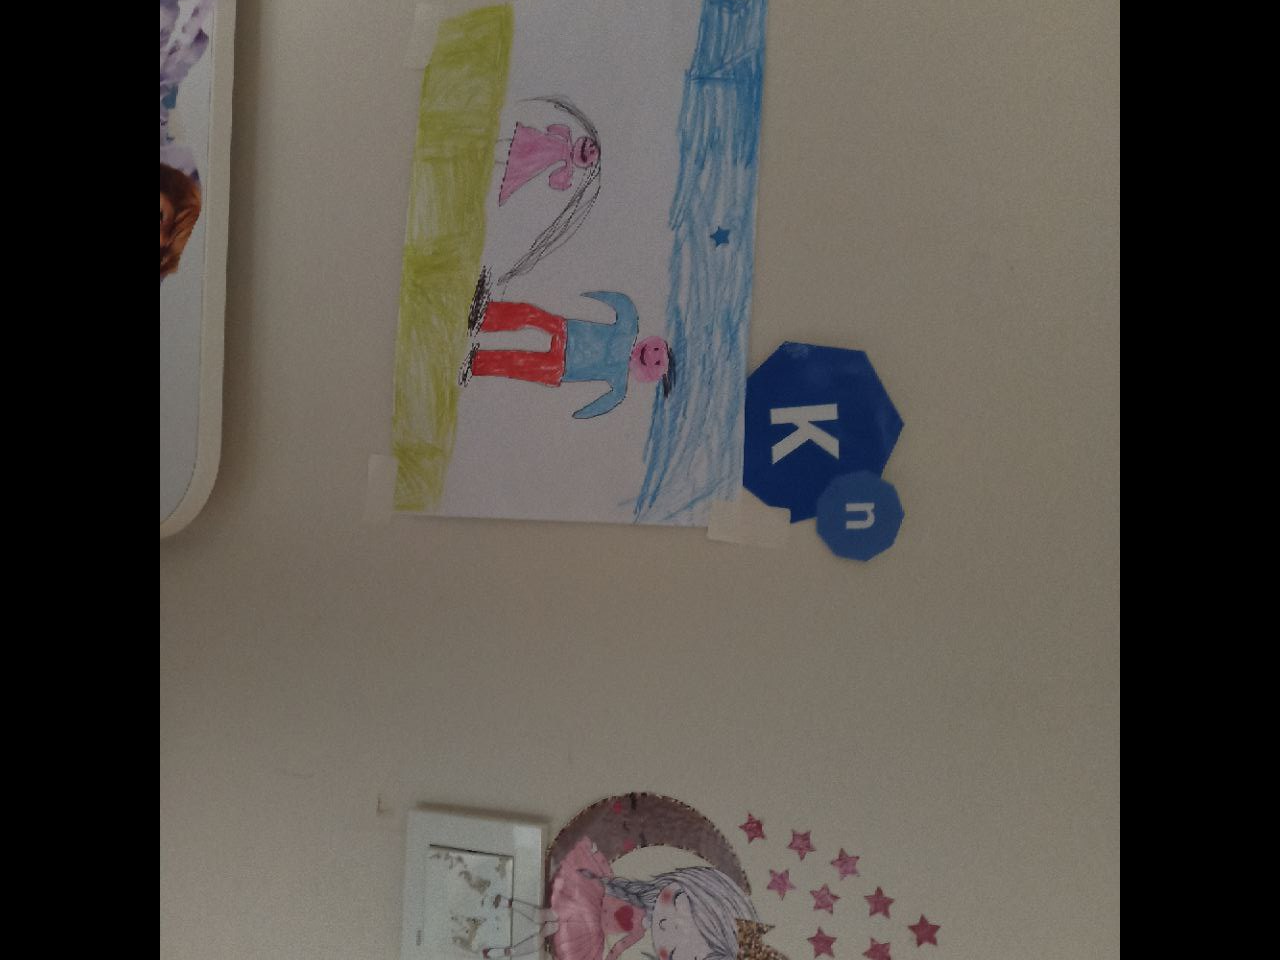knative: (740, 338, 909, 563)
